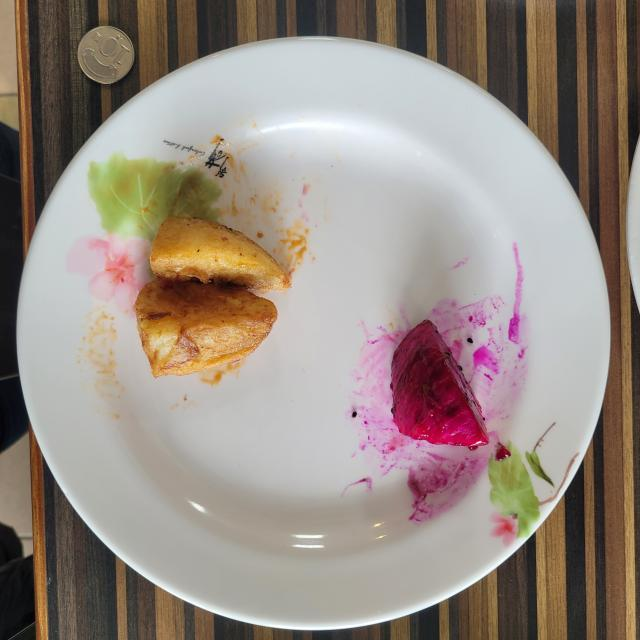coin: (78, 26, 135, 84)
fried potato: (134, 216, 291, 378)
